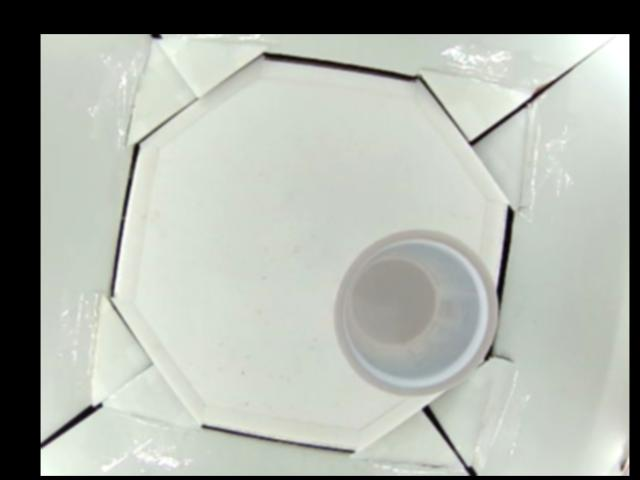Cup: (331, 228, 498, 395)
